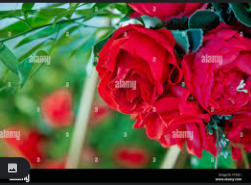RedRose: (89, 21, 175, 116), (189, 23, 251, 116)
